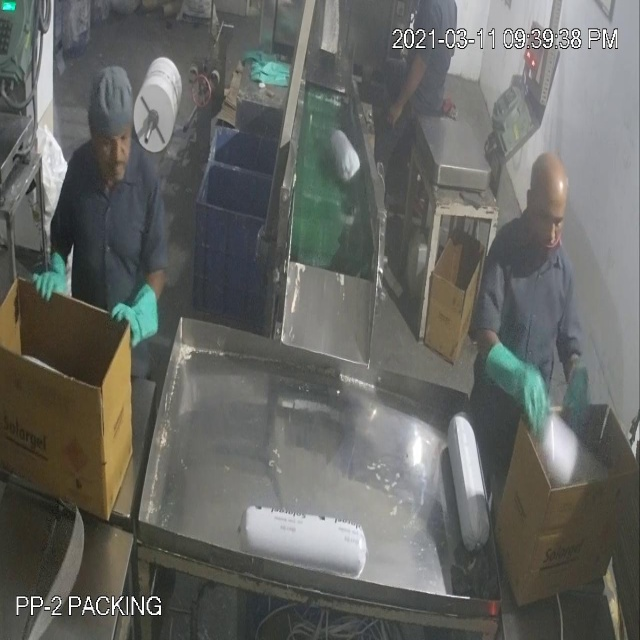Sin_guantes: (378, 50, 436, 140)
